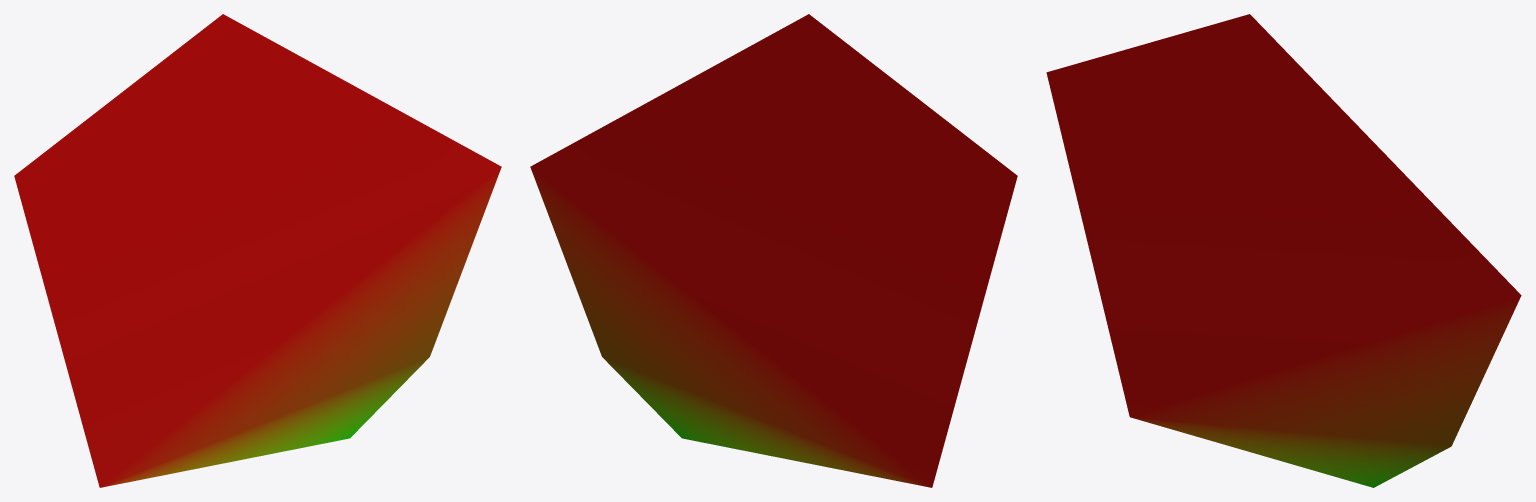
The model's file is Leptadenia_LOD5_Var8_xdkgfgtqx.fbx.
The picture shows the model from 3 angles, left to right: view 1: azimuth 30°, elevation 25°; view 2: azimuth 150°, elevation 25°; view 3: azimuth 330°, elevation 25°; orthographic projection. The views are drawn at different scales.
Visible parts, largest first — view 1: _zr7w_Var8_LOD5; view 2: _zr7w_Var8_LOD5; view 3: _zr7w_Var8_LOD5.
Boxes of the visible parts, <box> form: _zr7w_Var8_LOD5: <box>14,14,501,487</box>; _zr7w_Var8_LOD5: <box>530,14,1017,487</box>; _zr7w_Var8_LOD5: <box>1046,14,1521,487</box>.
Bounding box in the file's own units: 134 × 120 × 6.1e-05.
